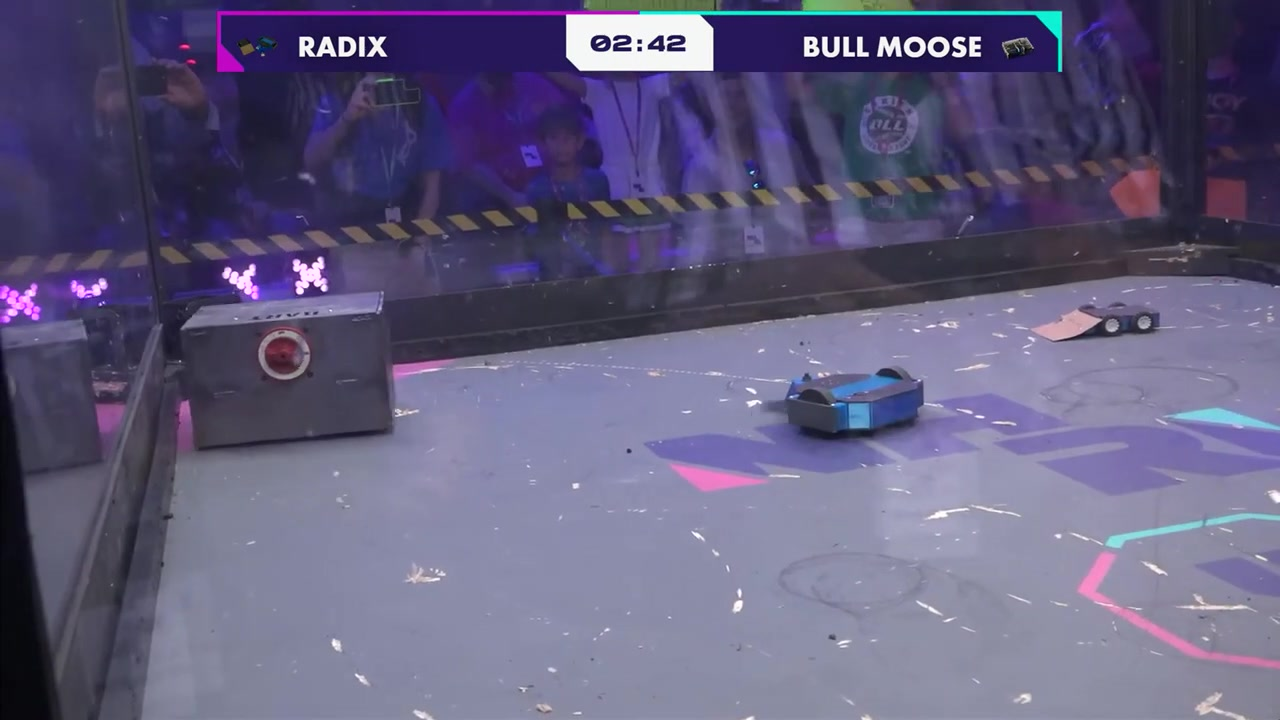combatbot: (786, 365, 925, 438)
housebot: (181, 291, 396, 450)
minibot: (1035, 301, 1161, 344)
